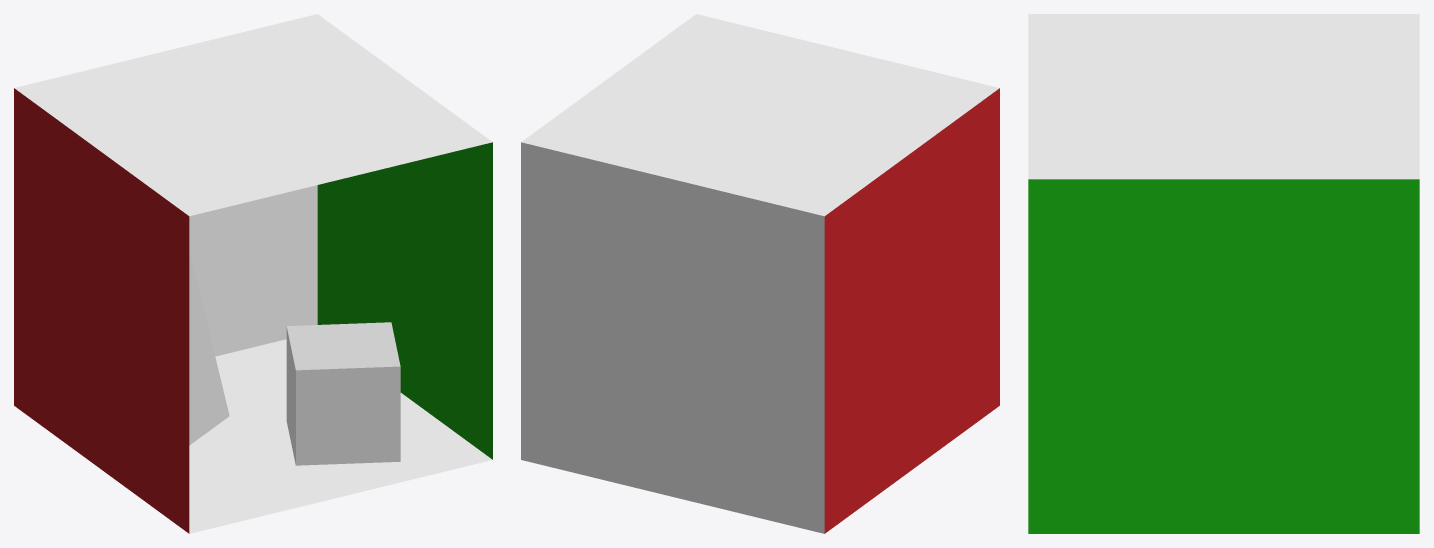
File: cornell_gtest.glb
The picture shows the model from 3 angles, left to right: view 1: azimuth 30°, elevation 25°; view 2: azimuth 150°, elevation 25°; view 3: azimuth 270°, elevation 25°; orthographic projection. The views are drawn at different scales.
Visible parts, largest first — view 1: Plane, Plane.002, Plane.001, Cube.001, Cube; view 2: Plane, Plane.002; view 3: Plane.001, Plane.
Boxes of the visible parts, x1,y1,x2,y2 form: Plane: (14,14,492,533); Plane.002: (14,88,189,533); Plane.001: (317,142,492,459); Cube.001: (286,322,400,465); Cube: (189,250,229,445); Plane: (521,14,999,533); Plane.002: (824,88,999,533); Plane.001: (1028,179,1419,533); Plane: (1028,14,1419,179).
Size of the model in its own units: 10 by 10 by 10.
